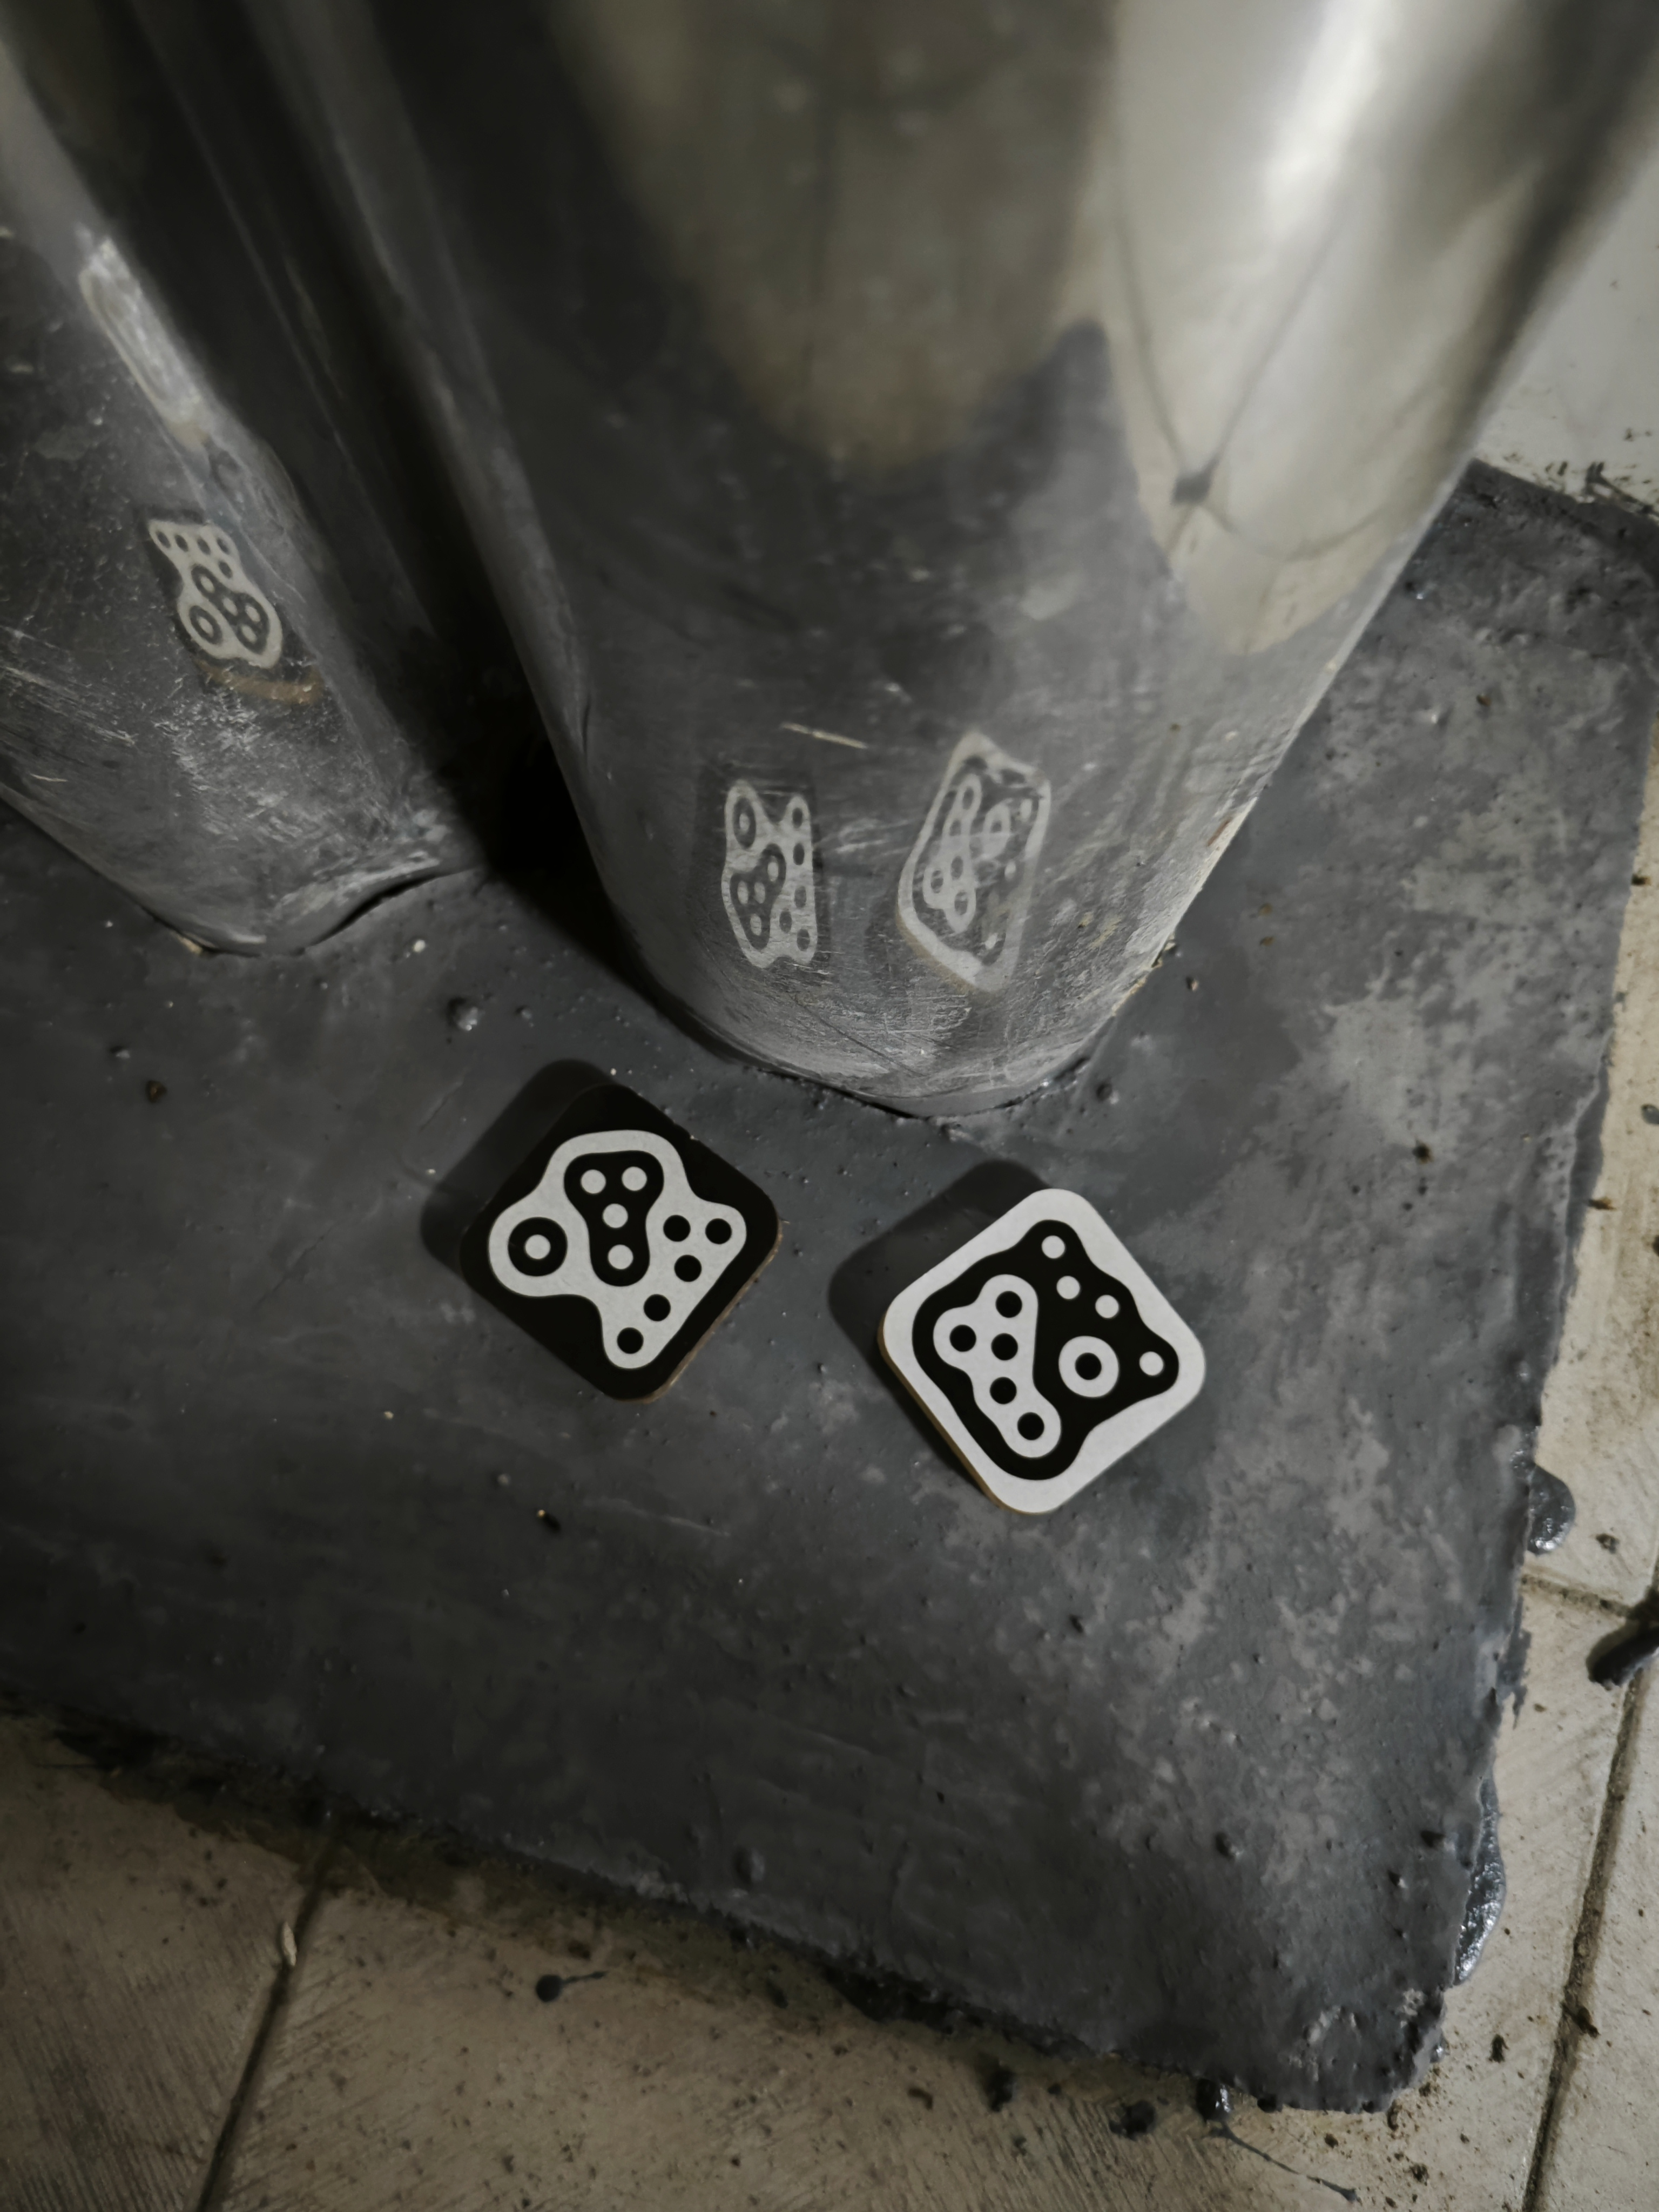mark1: (913, 1217, 1183, 1489)
mark2: (488, 1115, 756, 1374)
